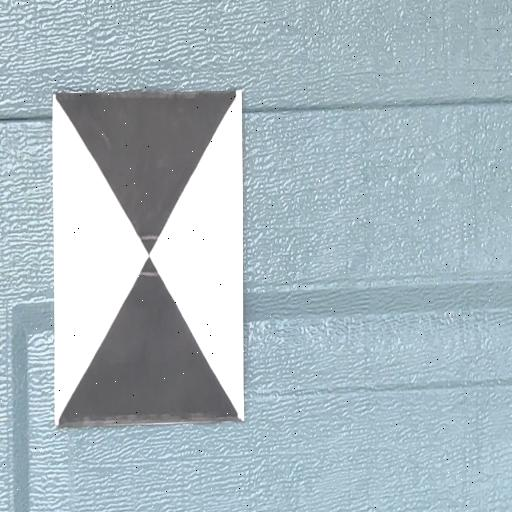target: (53, 90, 247, 423)
